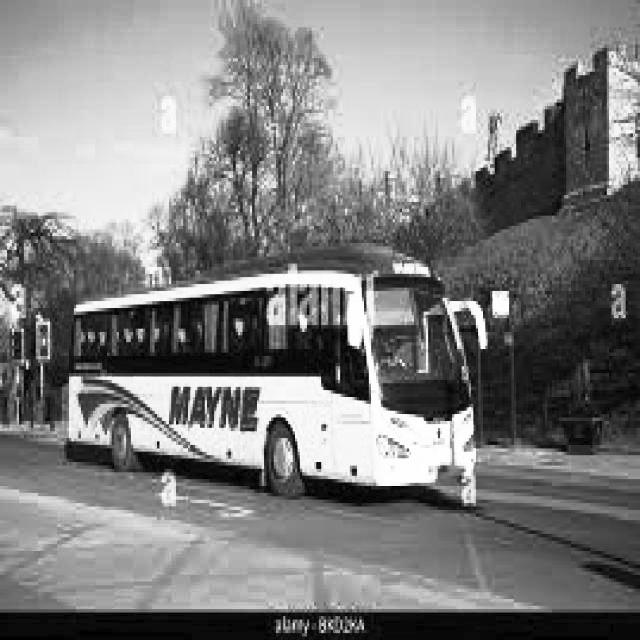Bus: (58, 243, 496, 558)
